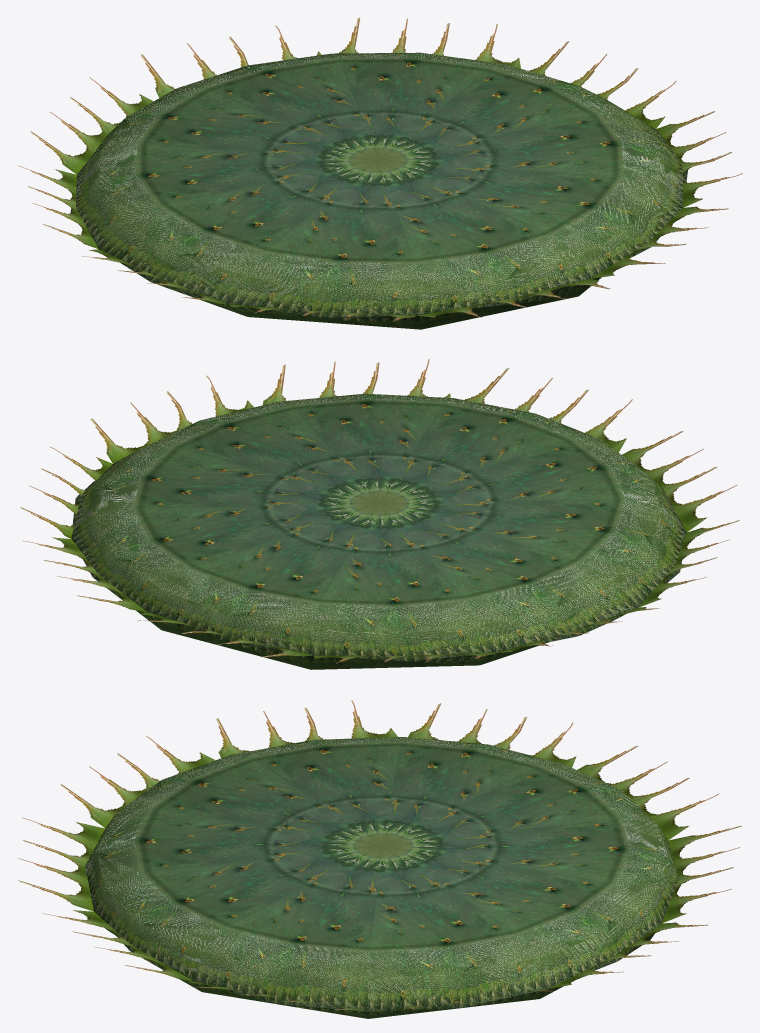
Rendered from CactusPlatform.gltf.
The picture shows the model from 3 angles, top to bottom: view 1: azimuth 30°, elevation 25°; view 2: azimuth 150°, elevation 25°; view 3: azimuth 270°, elevation 25°; orthographic projection.
Parts seen in each view (by area): view 1: CactusPlatformMesh, CactusPlatformColFloor, CactusPlatformColWall; view 2: CactusPlatformMesh, CactusPlatformColFloor, CactusPlatformColWall; view 3: CactusPlatformMesh, CactusPlatformColFloor, CactusPlatformColWall.
Part boxes in pixels (x1=…): CactusPlatformMesh: x1=17, y1=17, x2=742, y2=329; CactusPlatformColFloor: x1=99, y1=53, x2=659, y2=289; CactusPlatformColWall: x1=71, y1=88, x2=687, y2=317; CactusPlatformMesh: x1=20, y1=359, x2=739, y2=669; CactusPlatformColFloor: x1=97, y1=394, x2=661, y2=633; CactusPlatformColWall: x1=73, y1=452, x2=686, y2=660; CactusPlatformMesh: x1=18, y1=700, x2=741, y2=1018; CactusPlatformColFloor: x1=96, y1=737, x2=666, y2=977; CactusPlatformColWall: x1=86, y1=820, x2=677, y2=1010.
Bounding box in the file's own units: 4.92 × 0.6192 × 4.85.
2 materials, 2 textured.
